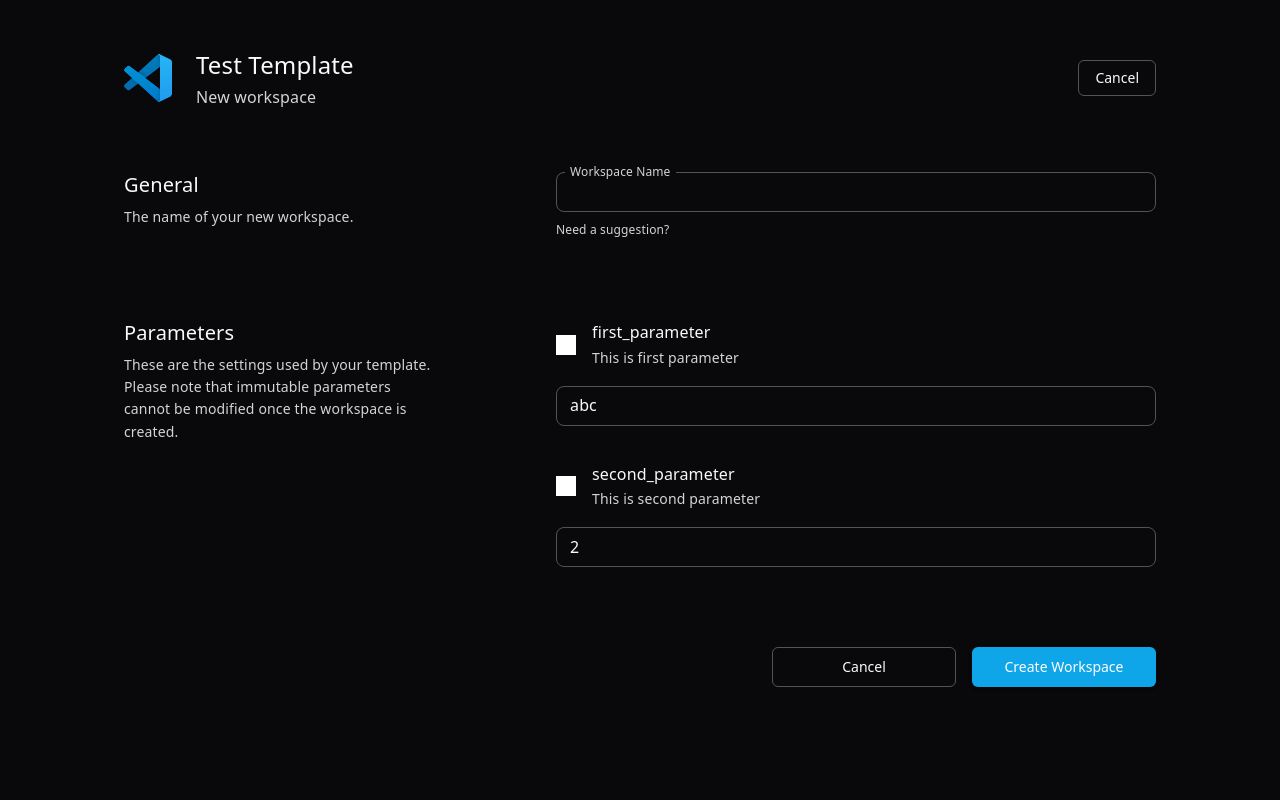
Test case: CreateWorkspacePage › rich parameter: number validation fails
Check: the button "Create Workspace" is shown, box [972,647,1156,687]
Check: the text "This is second parameter" is shown, box [592,487,760,511]
Type "4" into the number field labelled "second_parameter" at [856, 547], box [556,519,1156,575]
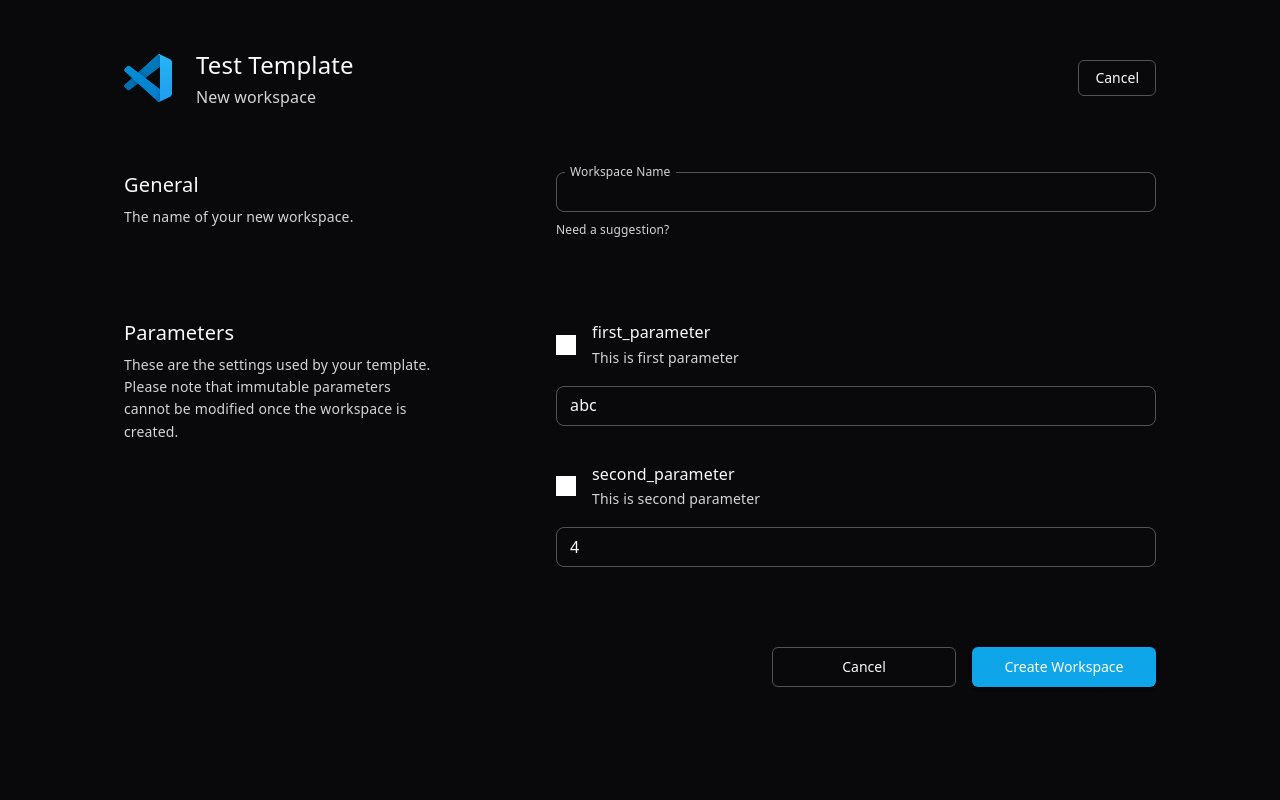
Submit the form from the text "This is second parameter", box [592,487,760,511]
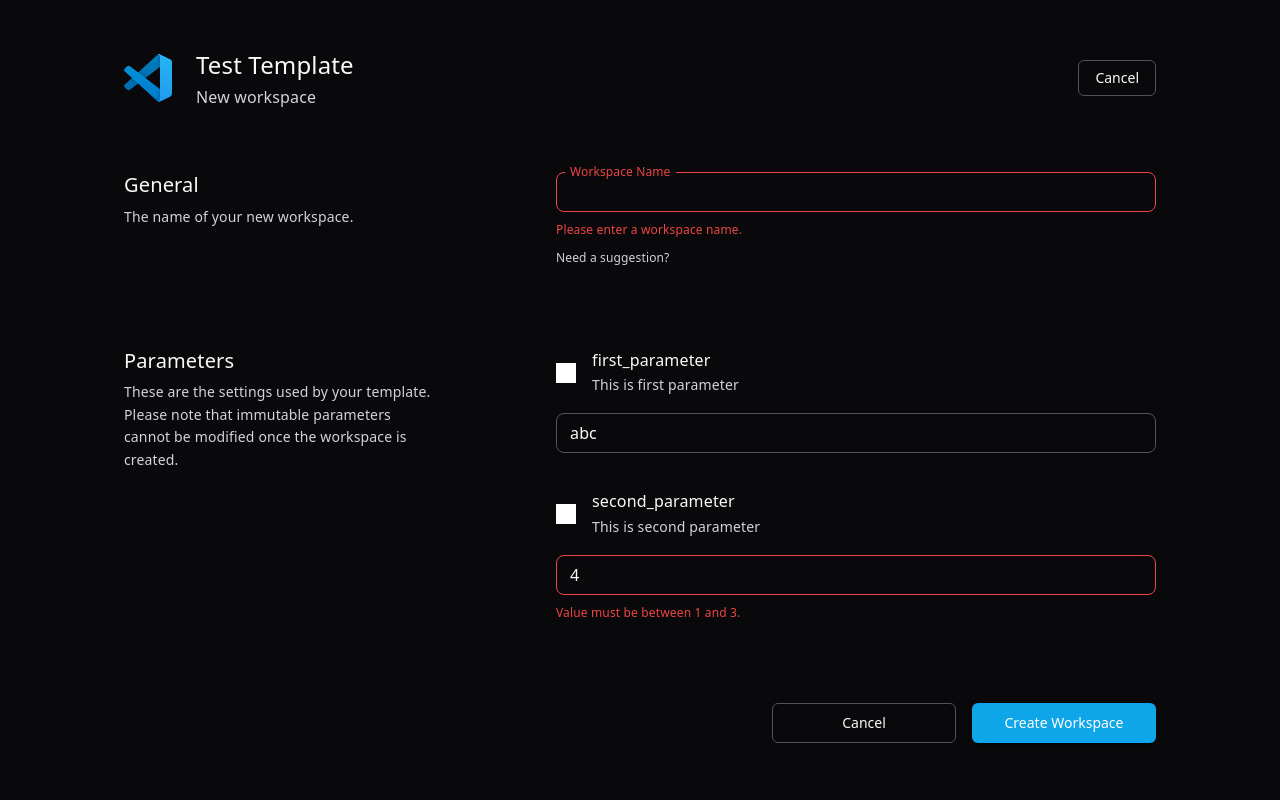
Check: the text "Value must be between 1 and 3." is shown, box [556,604,740,621]
